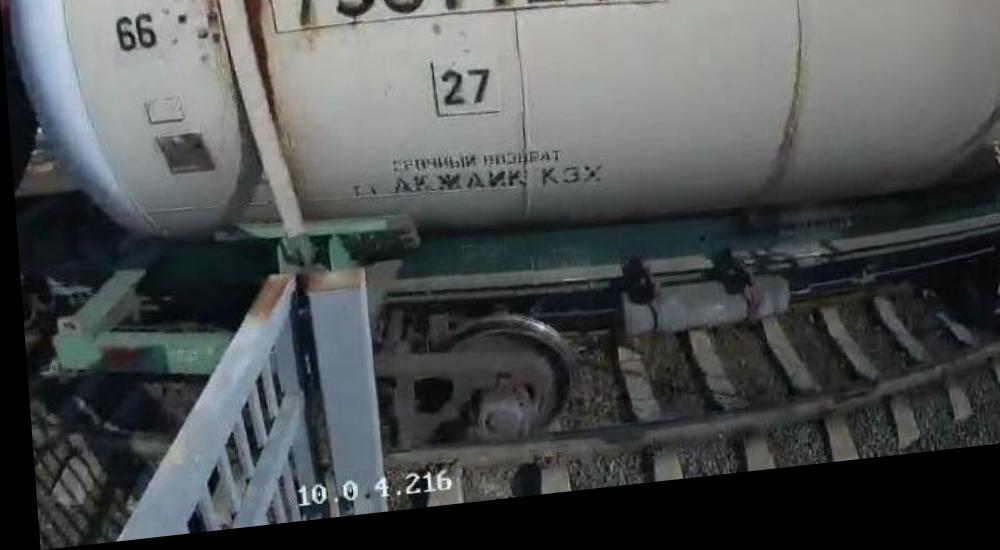Wagon-number: (271, 0, 661, 46)
